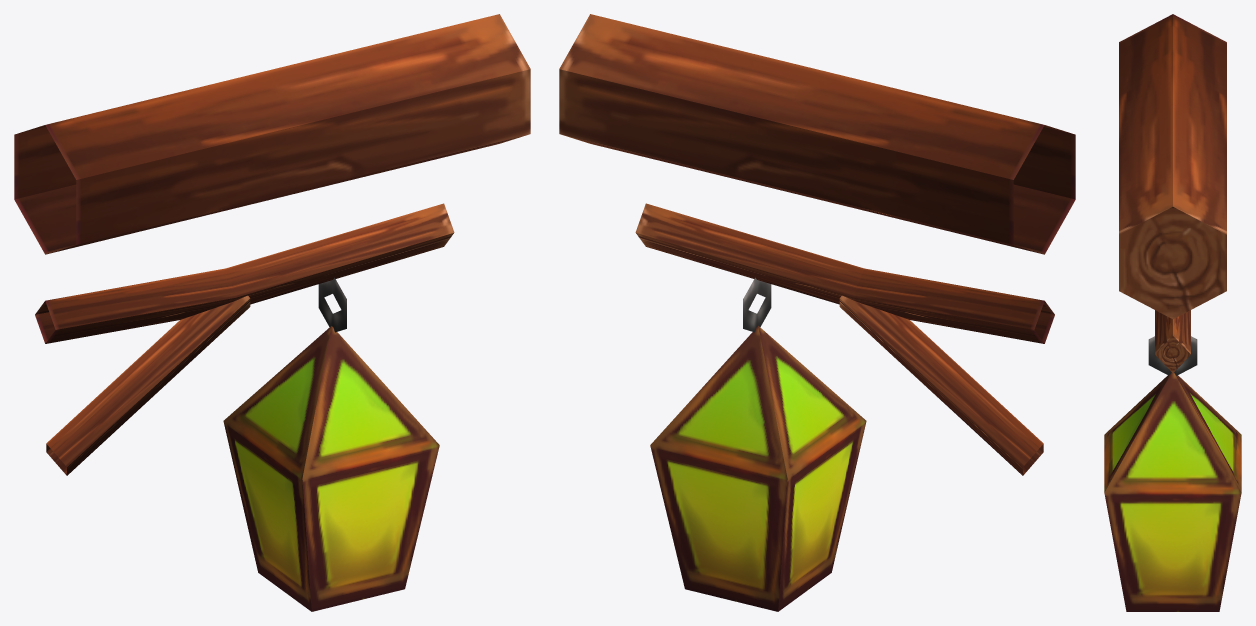
The model's file is BiDeng01.FBX.
3 renders of one model, left to right at view 1: azimuth 30°, elevation 25°; view 2: azimuth 150°, elevation 25°; view 3: azimuth 270°, elevation 25°, orthographic. The views are drawn at different scales.
Visible parts, largest first — view 1: deng_05; view 2: deng_05; view 3: deng_05.
Part boxes in pixels (x1,y1,x2,y2): deng_05: (14,14,530,611); deng_05: (559,14,1075,611); deng_05: (1104,14,1241,611).
Size of the model in its own units: 59.18 by 65.44 by 17.82.
